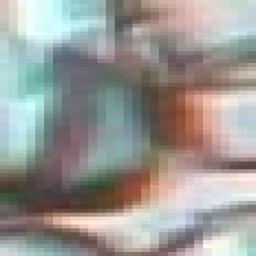crystals: (1, 47, 169, 221)
